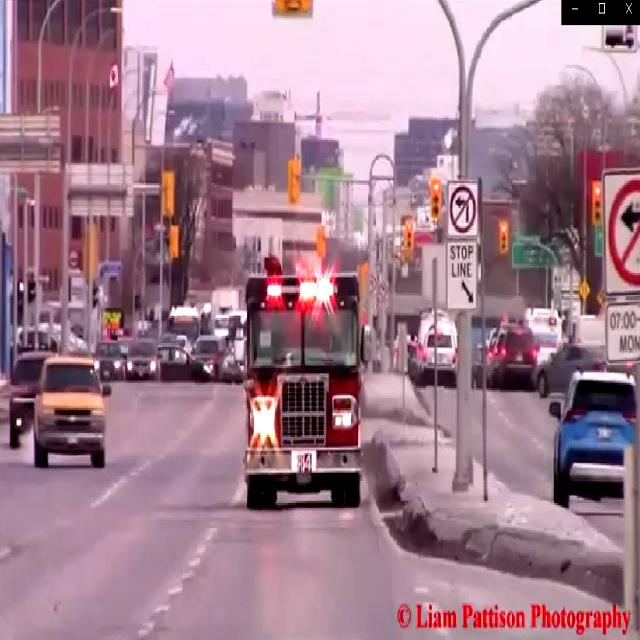emergency: (234, 257, 376, 517)
